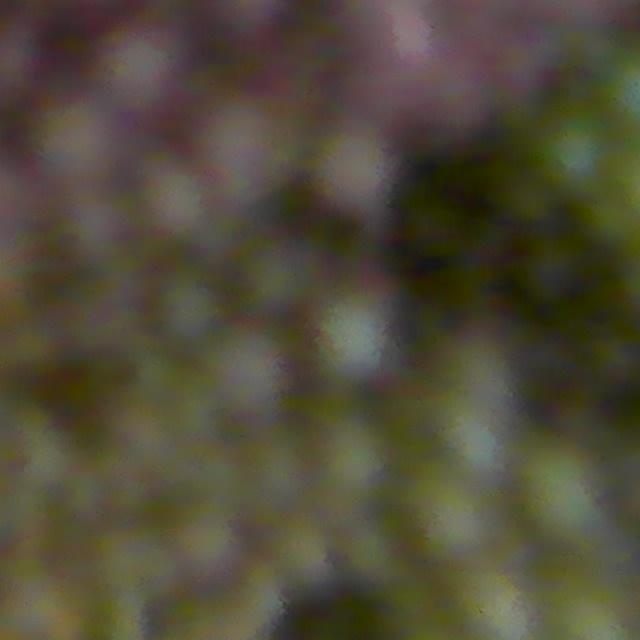SeaGrape: (518, 440, 615, 545), (196, 99, 294, 200), (83, 38, 192, 124), (309, 292, 404, 388), (313, 122, 406, 220), (209, 325, 296, 416), (412, 479, 501, 563), (35, 100, 120, 183), (317, 420, 395, 505), (454, 567, 543, 640), (243, 235, 323, 313), (533, 119, 609, 194), (140, 167, 210, 241), (245, 439, 309, 512), (271, 521, 335, 594), (174, 517, 243, 584)
